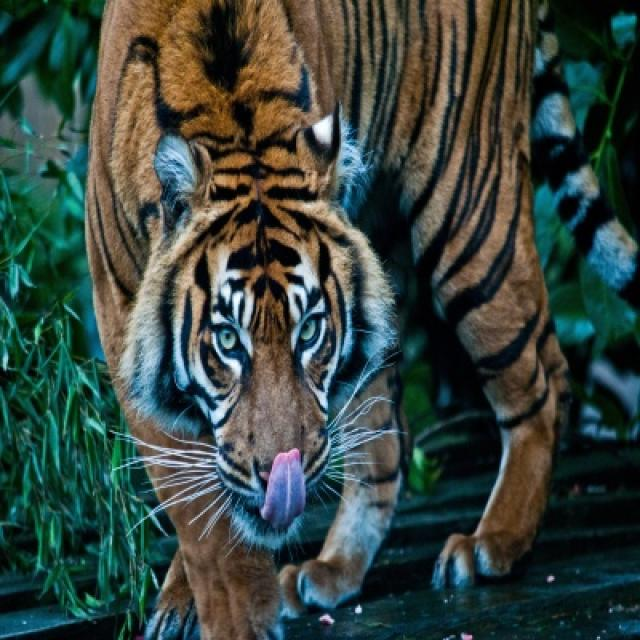Tiger: (86, 0, 568, 638)
